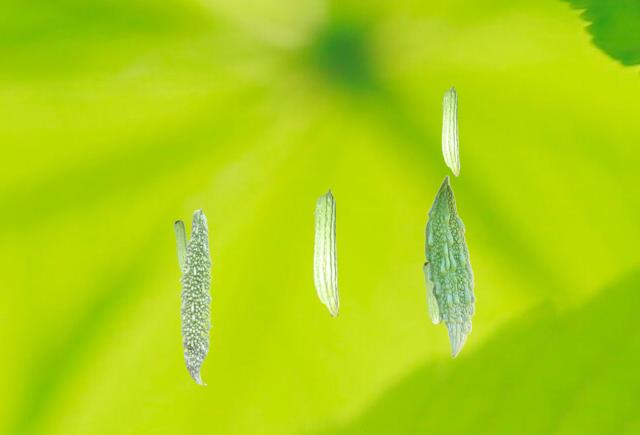ampalaya: (424, 175, 476, 358), (178, 206, 213, 385), (312, 187, 339, 317), (441, 85, 460, 177), (422, 261, 442, 324), (173, 219, 187, 273)
